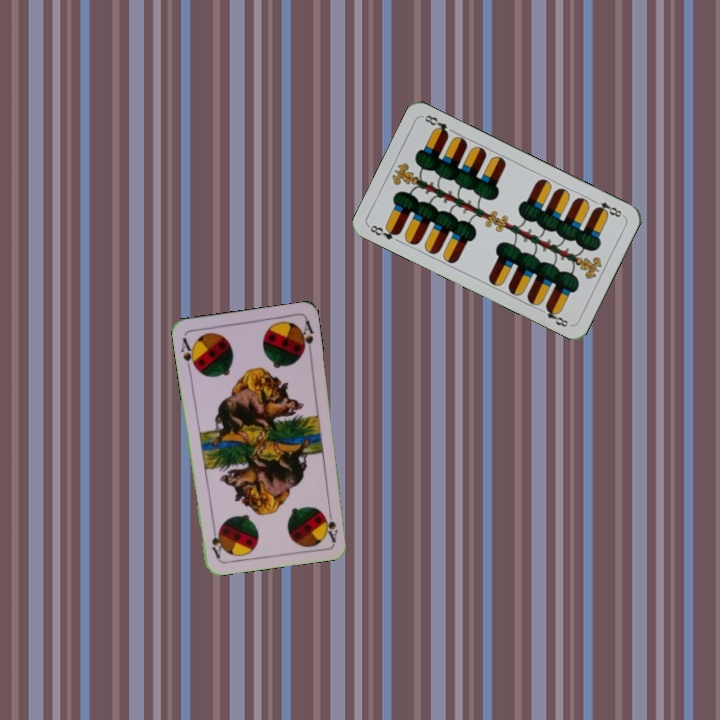E8: (588, 195, 626, 220), (365, 221, 403, 243)
SA: (177, 334, 199, 373), (322, 503, 340, 544)
